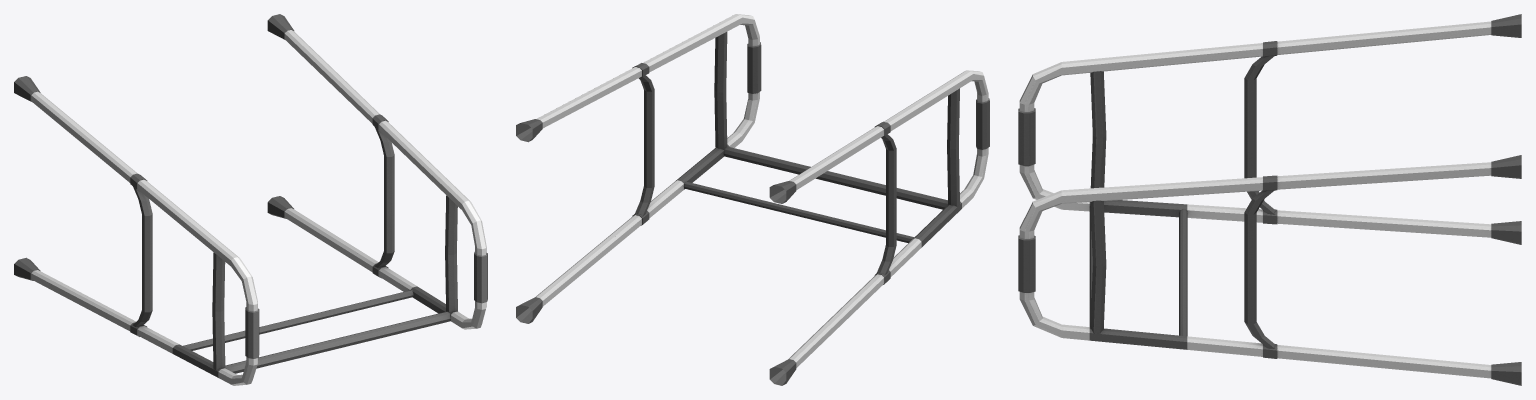
Rendered from Walker.obj.
The picture shows the model from 3 angles, left to right: view 1: azimuth 30°, elevation 25°; view 2: azimuth 150°, elevation 25°; view 3: azimuth 270°, elevation 25°; orthographic projection. The views are drawn at different scales.
Parts seen in each view (by area): view 1: walker_Cube; view 2: walker_Cube; view 3: walker_Cube.
Part boxes in pixels (bbox=[...]): walker_Cube: bbox=[14, 14, 487, 385]; walker_Cube: bbox=[516, 14, 989, 385]; walker_Cube: bbox=[1018, 14, 1521, 385].
Size of the model in its own units: 0.5753 by 0.4053 by 0.8152.
Materials: 1 (1 with a texture image).
